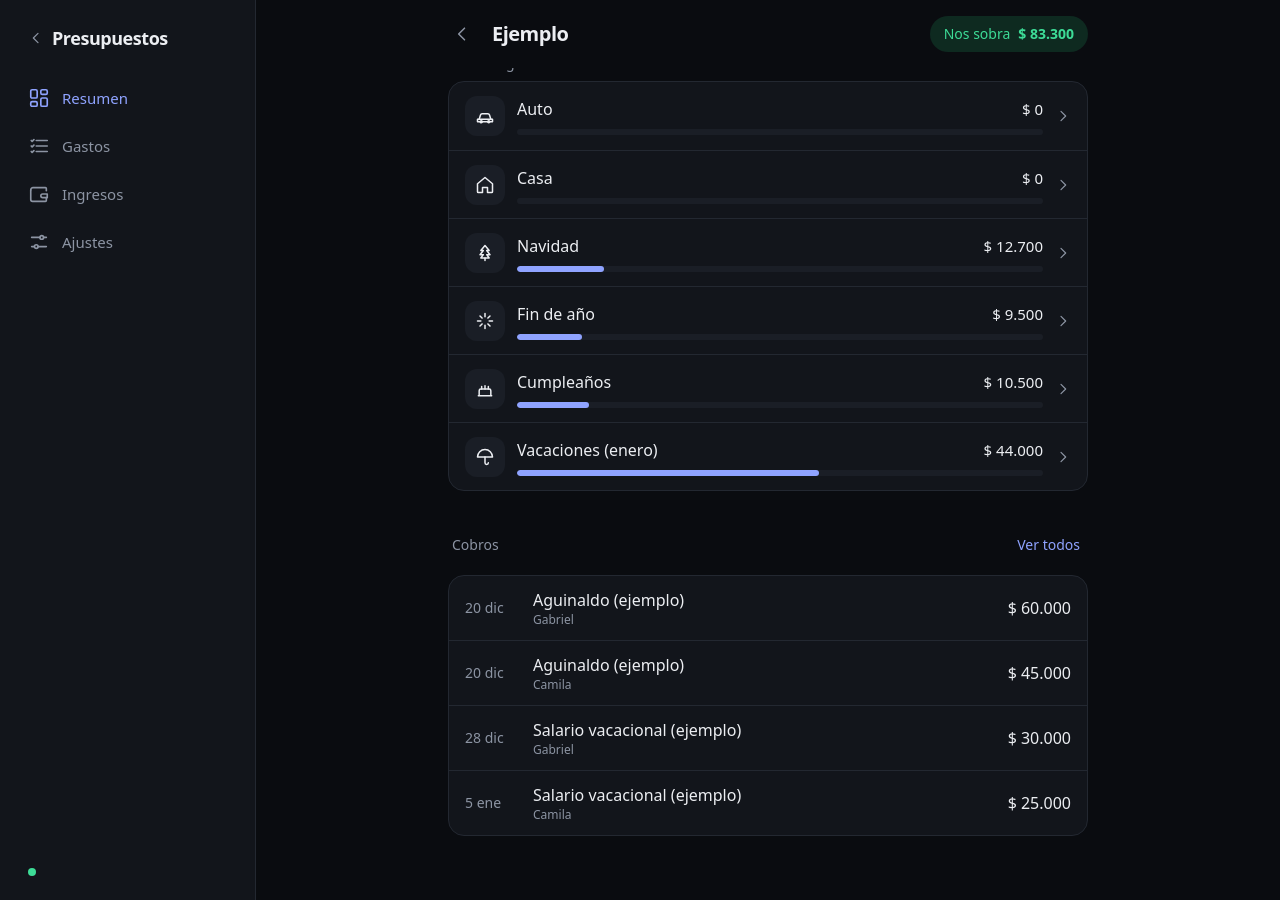
Scenario: comparador de destinos › cada destino muestra su total y el balance si fuera el único
The image size is (1280, 900).
(page scrolled)
Click the button "Vacaciones (enero) $ 44.000".
click(485, 456)  # box [449,422,1087,490]
(page scrolled)
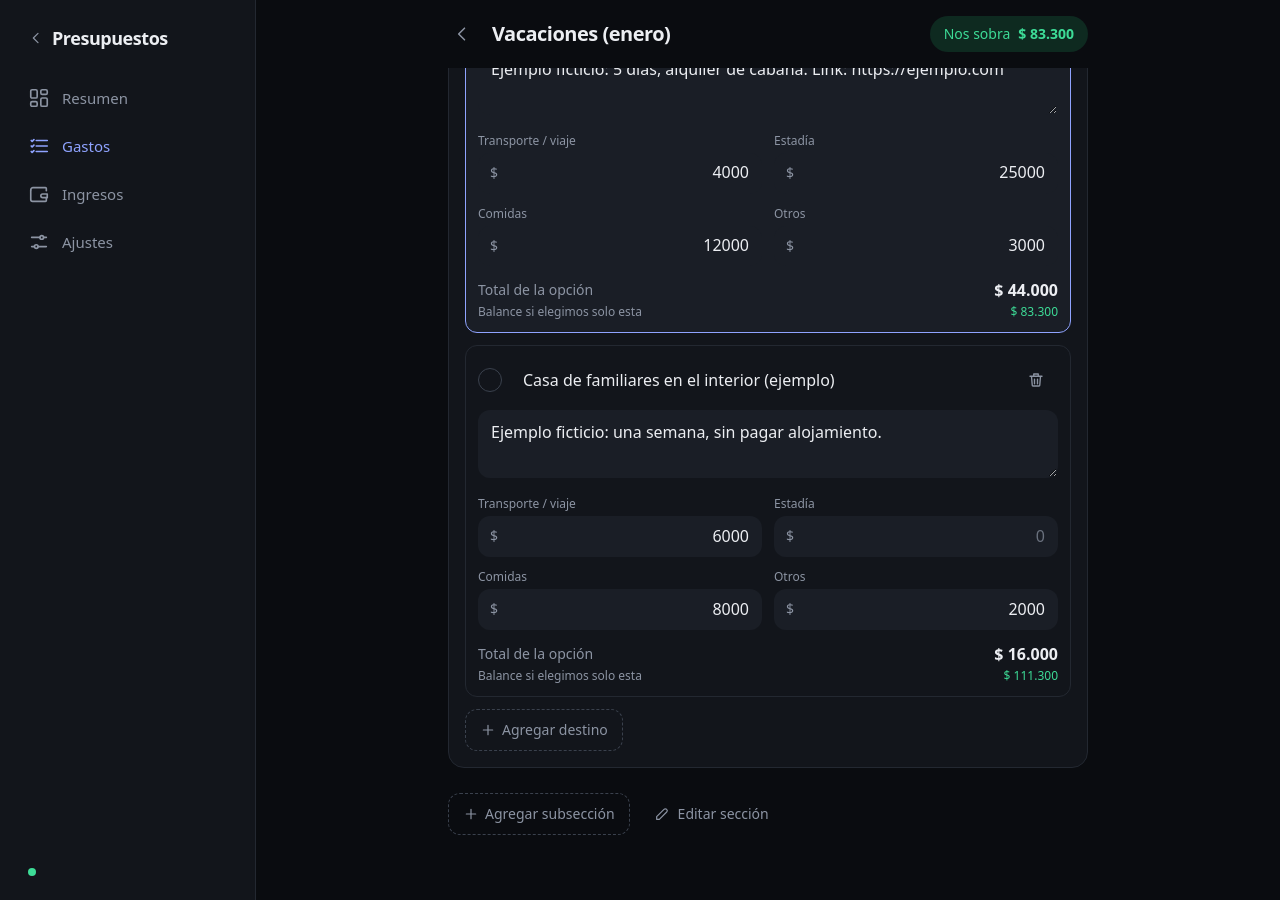
Expected: the element named "Seleccionar Casa de familiares en el interior (ejemplo)" shows "$ 16.000", [994,643,1058,665]
Expected: the element named "Seleccionar Casa de familiares en el interior (ejemplo)" shows "$ 111.300", [1004,667,1058,684]
